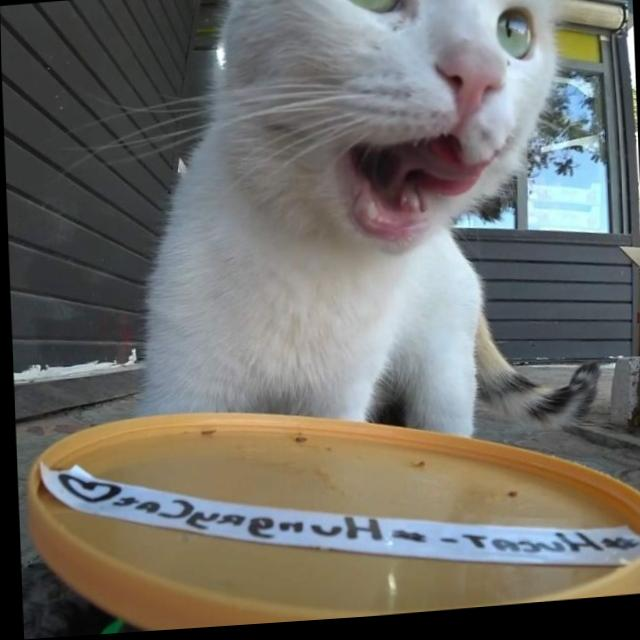animals: (177, 0, 596, 278)
